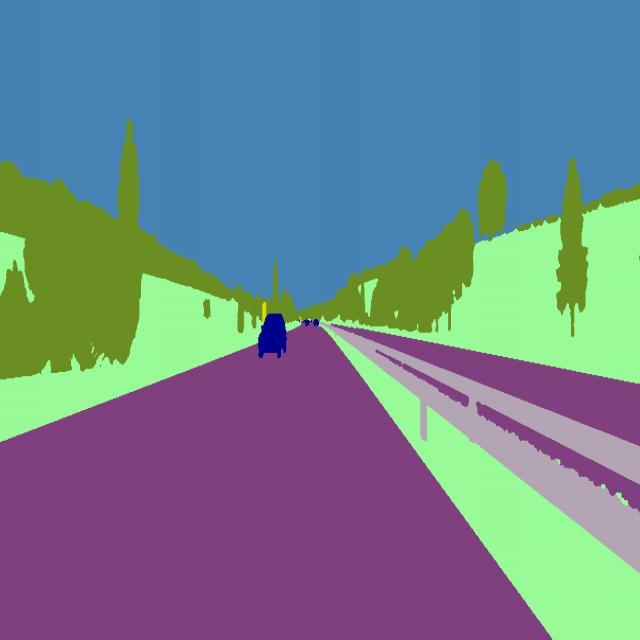safe: (256, 310, 290, 361)
